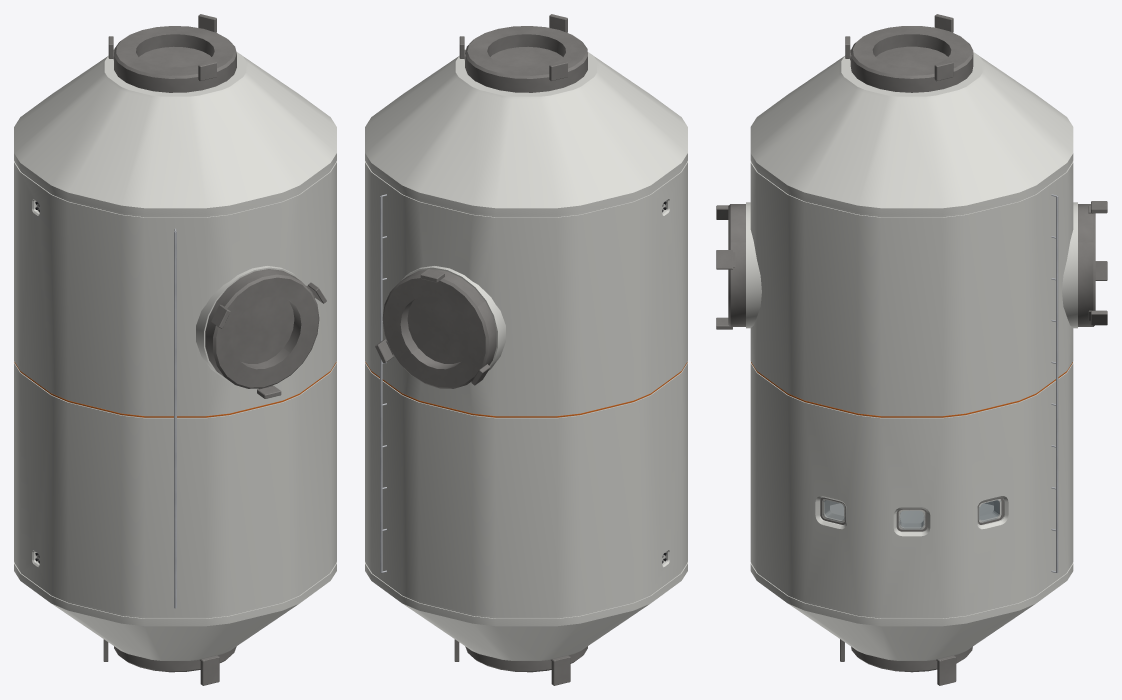
File: ax_station_12_command.glb
The picture shows the model from 3 angles, left to right: view 1: azimuth 30°, elevation 25°; view 2: azimuth 150°, elevation 25°; view 3: azimuth 270°, elevation 25°; orthographic projection.
Visible parts, largest first — view 1: pressure_hull, port_2, port_top, hatch_door_4, handrails, hatch_door_2, port_2_pedestal, port_bottom, port_top_petals, port_2_petals, port_bottom_petals, orange_stripes; view 2: pressure_hull, port_1, port_top, hatch_door_3, handrails, hatch_door_2, port_1_pedestal, port_bottom, port_top_petals, port_1_petals, port_bottom_petals, orange_stripes; view 3: pressure_hull, port_top, port_2, port_1, port_1_pedestal, port_2_pedestal, handrails, window_glass, hatch_door_2, port_bottom, port_1_petals, port_top_petals (+4 smaller).
Part boxes in pixels (left/top/right/bottom): pressure_hull: left=14, top=52, right=336, bottom=660; port_2: left=205, top=269, right=319, bottom=388; port_top: left=114, top=26, right=236, bottom=92; hatch_door_4: left=233, top=296, right=294, bottom=363; handrails: left=174, top=228, right=176, bottom=608; hatch_door_2: left=139, top=46, right=210, bottom=67; port_2_pedestal: left=196, top=266, right=300, bottom=381; port_bottom: left=114, top=646, right=236, bottom=672; port_top_petals: left=108, top=14, right=216, bottom=80; port_2_petals: left=211, top=282, right=326, bottom=398; port_bottom_petals: left=103, top=639, right=219, bottom=685; orange_stripes: left=14, top=362, right=336, bottom=417; pressure_hull: left=365, top=52, right=687, bottom=660; port_1: left=382, top=269, right=496, bottom=388; port_top: left=465, top=26, right=587, bottom=92; hatch_door_3: left=407, top=296, right=468, bottom=363; handrails: left=380, top=194, right=386, bottom=573; hatch_door_2: left=491, top=46, right=562, bottom=67; port_1_pedestal: left=401, top=266, right=505, bottom=381; port_bottom: left=465, top=646, right=587, bottom=672; port_top_petals: left=459, top=14, right=567, bottom=80; port_1_petals: left=375, top=269, right=490, bottom=385; port_bottom_petals: left=454, top=639, right=570, bottom=685; orange_stripes: left=365, top=362, right=687, bottom=417; pressure_hull: left=750, top=52, right=1073, bottom=660; port_top: left=850, top=26, right=973, bottom=92; port_2: left=728, top=204, right=745, bottom=326; port_1: left=1078, top=204, right=1095, bottom=326; port_1_pedestal: left=1062, top=202, right=1077, bottom=328; port_2_pedestal: left=746, top=202, right=761, bottom=328; handrails: left=1051, top=194, right=1058, bottom=573; window_glass: left=823, top=499, right=1000, bottom=529; hatch_door_2: left=876, top=46, right=947, bottom=67; port_bottom: left=851, top=646, right=972, bottom=672; port_1_petals: left=1088, top=201, right=1107, bottom=325; port_top_petals: left=845, top=14, right=953, bottom=81.
Bounding box in the file's own units: 4.2 × 8.87 × 5.09.
Materials: 6 (2 with a texture image).
